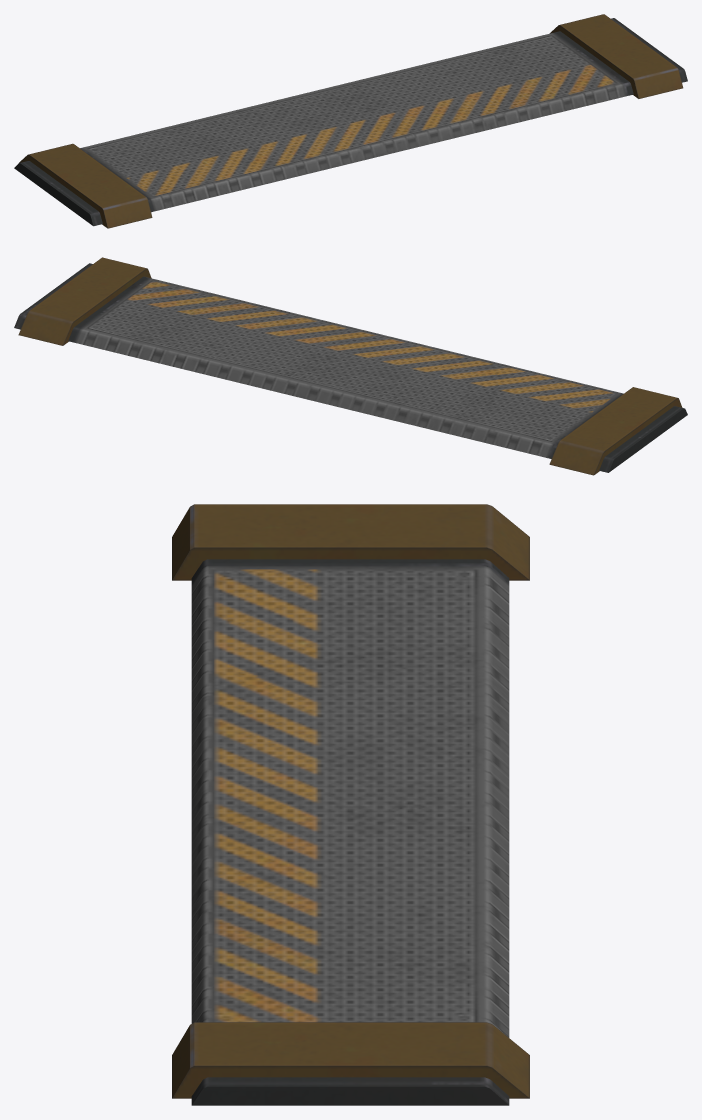
The model's file is Subway_Stairs_Escalator_Edge.fbx.
3 views of the same model, one above another, from view 1: azimuth 30°, elevation 25°; view 2: azimuth 150°, elevation 25°; view 3: azimuth 270°, elevation 25° (orthographic). The views are drawn at different scales.
Visible parts, largest first — view 1: polySurface812; view 2: polySurface812; view 3: polySurface812.
Boxes of the visible parts, <box> form: polySurface812: <box>14,14,687,228</box>; polySurface812: <box>14,257,687,475</box>; polySurface812: <box>172,504,529,1105</box>.
Bounding box in the file's own units: 100 × 2.63 × 26.06.
